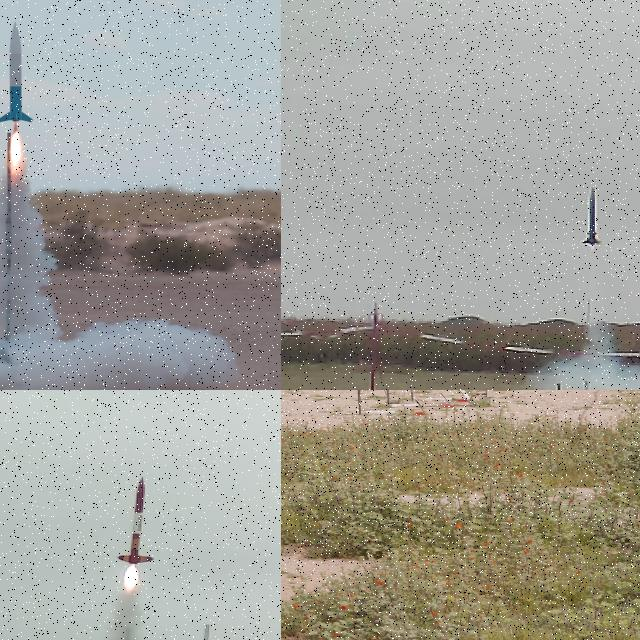Rocket: (116, 475, 156, 565), (0, 21, 34, 123), (582, 184, 602, 245)
